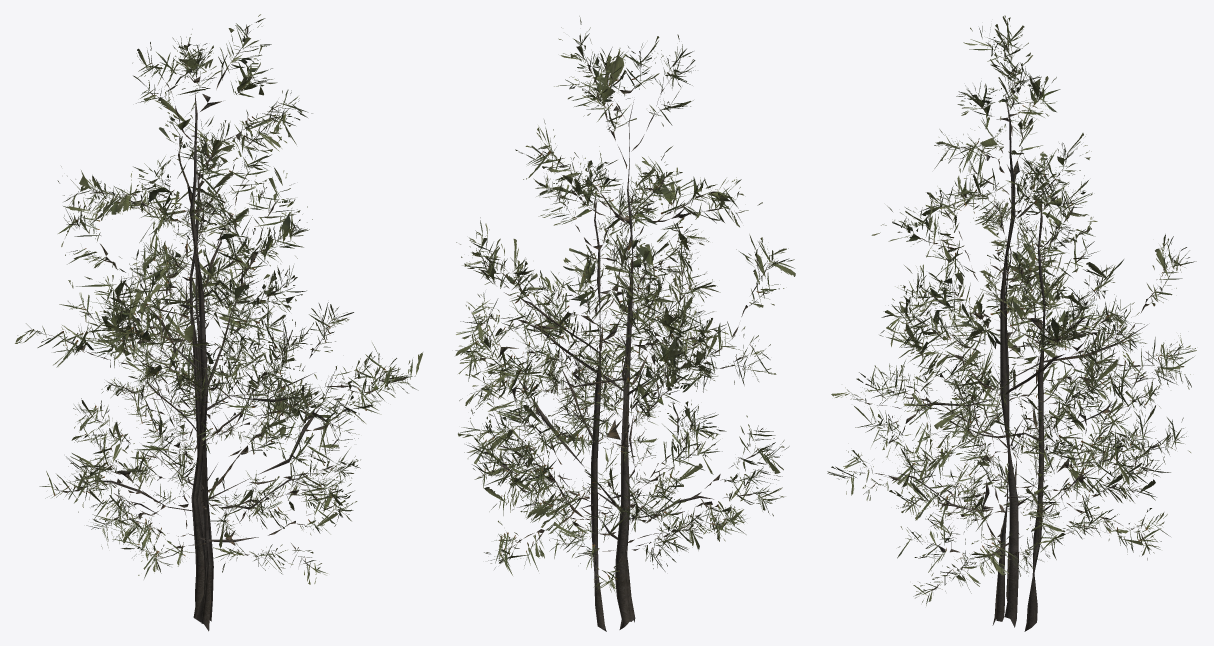
Rendered from pine-sapling-small.glb.
The picture shows the model from 3 angles, left to right: view 1: azimuth 30°, elevation 25°; view 2: azimuth 150°, elevation 25°; view 3: azimuth 270°, elevation 25°; orthographic projection.
Visible parts, largest first — view 1: pine_sapling_small_a, pine_sapling_small_b, pine_sapling_small_c; view 2: pine_sapling_small_a, pine_sapling_small_b, pine_sapling_small_c; view 3: pine_sapling_small_a, pine_sapling_small_b, pine_sapling_small_c.
Part boxes in pixels (x1,y1,x2,y2): pine_sapling_small_a: (15,14,422,622); pine_sapling_small_b: (59,115,359,566); pine_sapling_small_c: (71,179,357,631); pine_sapling_small_a: (455,16,795,629); pine_sapling_small_b: (460,146,722,631); pine_sapling_small_c: (493,181,747,622); pine_sapling_small_a: (831,15,1196,627); pine_sapling_small_b: (827,156,1196,631); pine_sapling_small_c: (861,190,1158,625).
Size of the model in its own units: 0.8194 by 1.3 by 0.746.
Materials: 6 (6 with a texture image).
